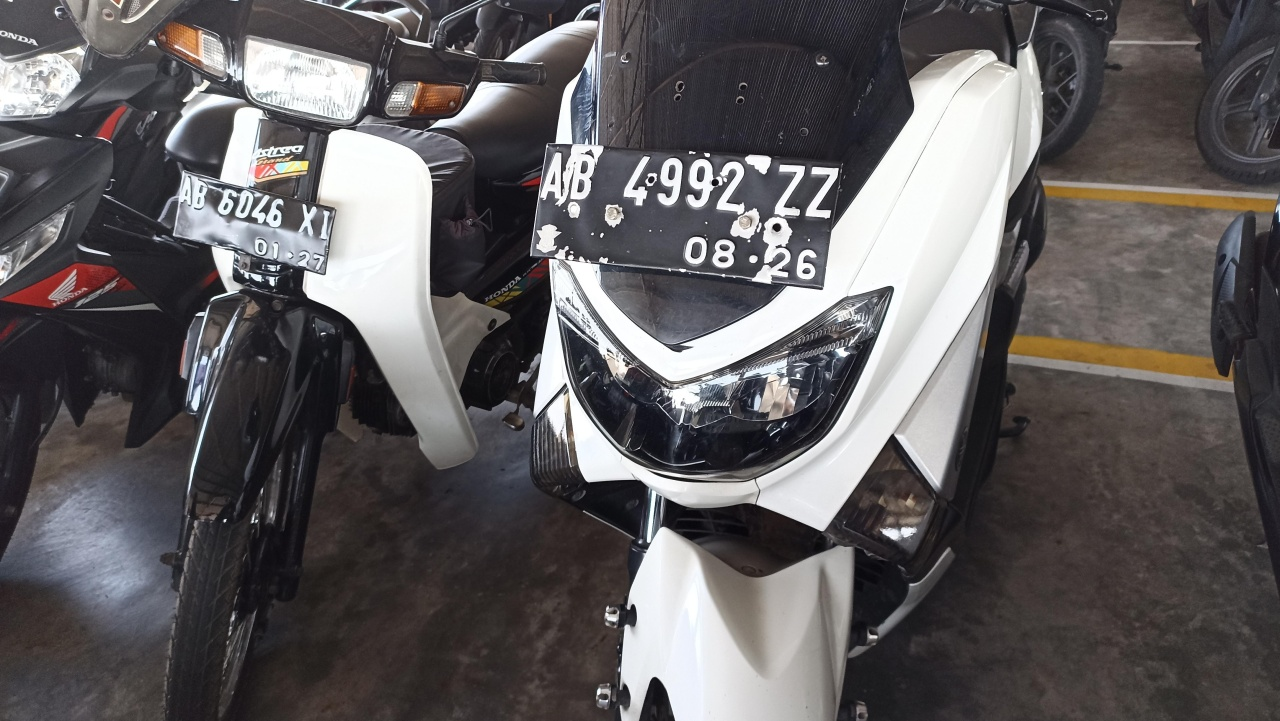plate: (530, 142, 843, 289), (174, 171, 336, 275)
